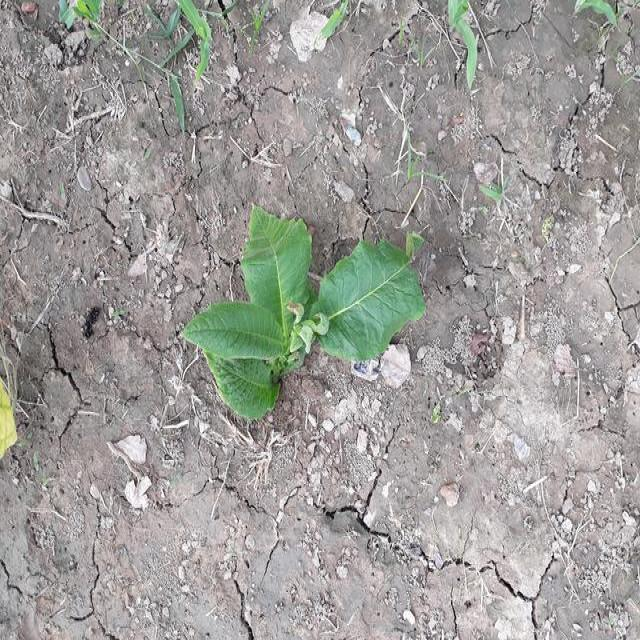crop: (184, 200, 415, 406)
